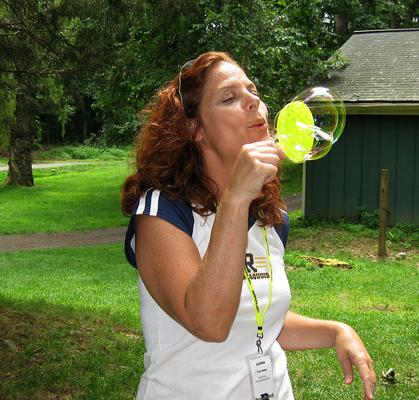person: (126, 49, 375, 400)
